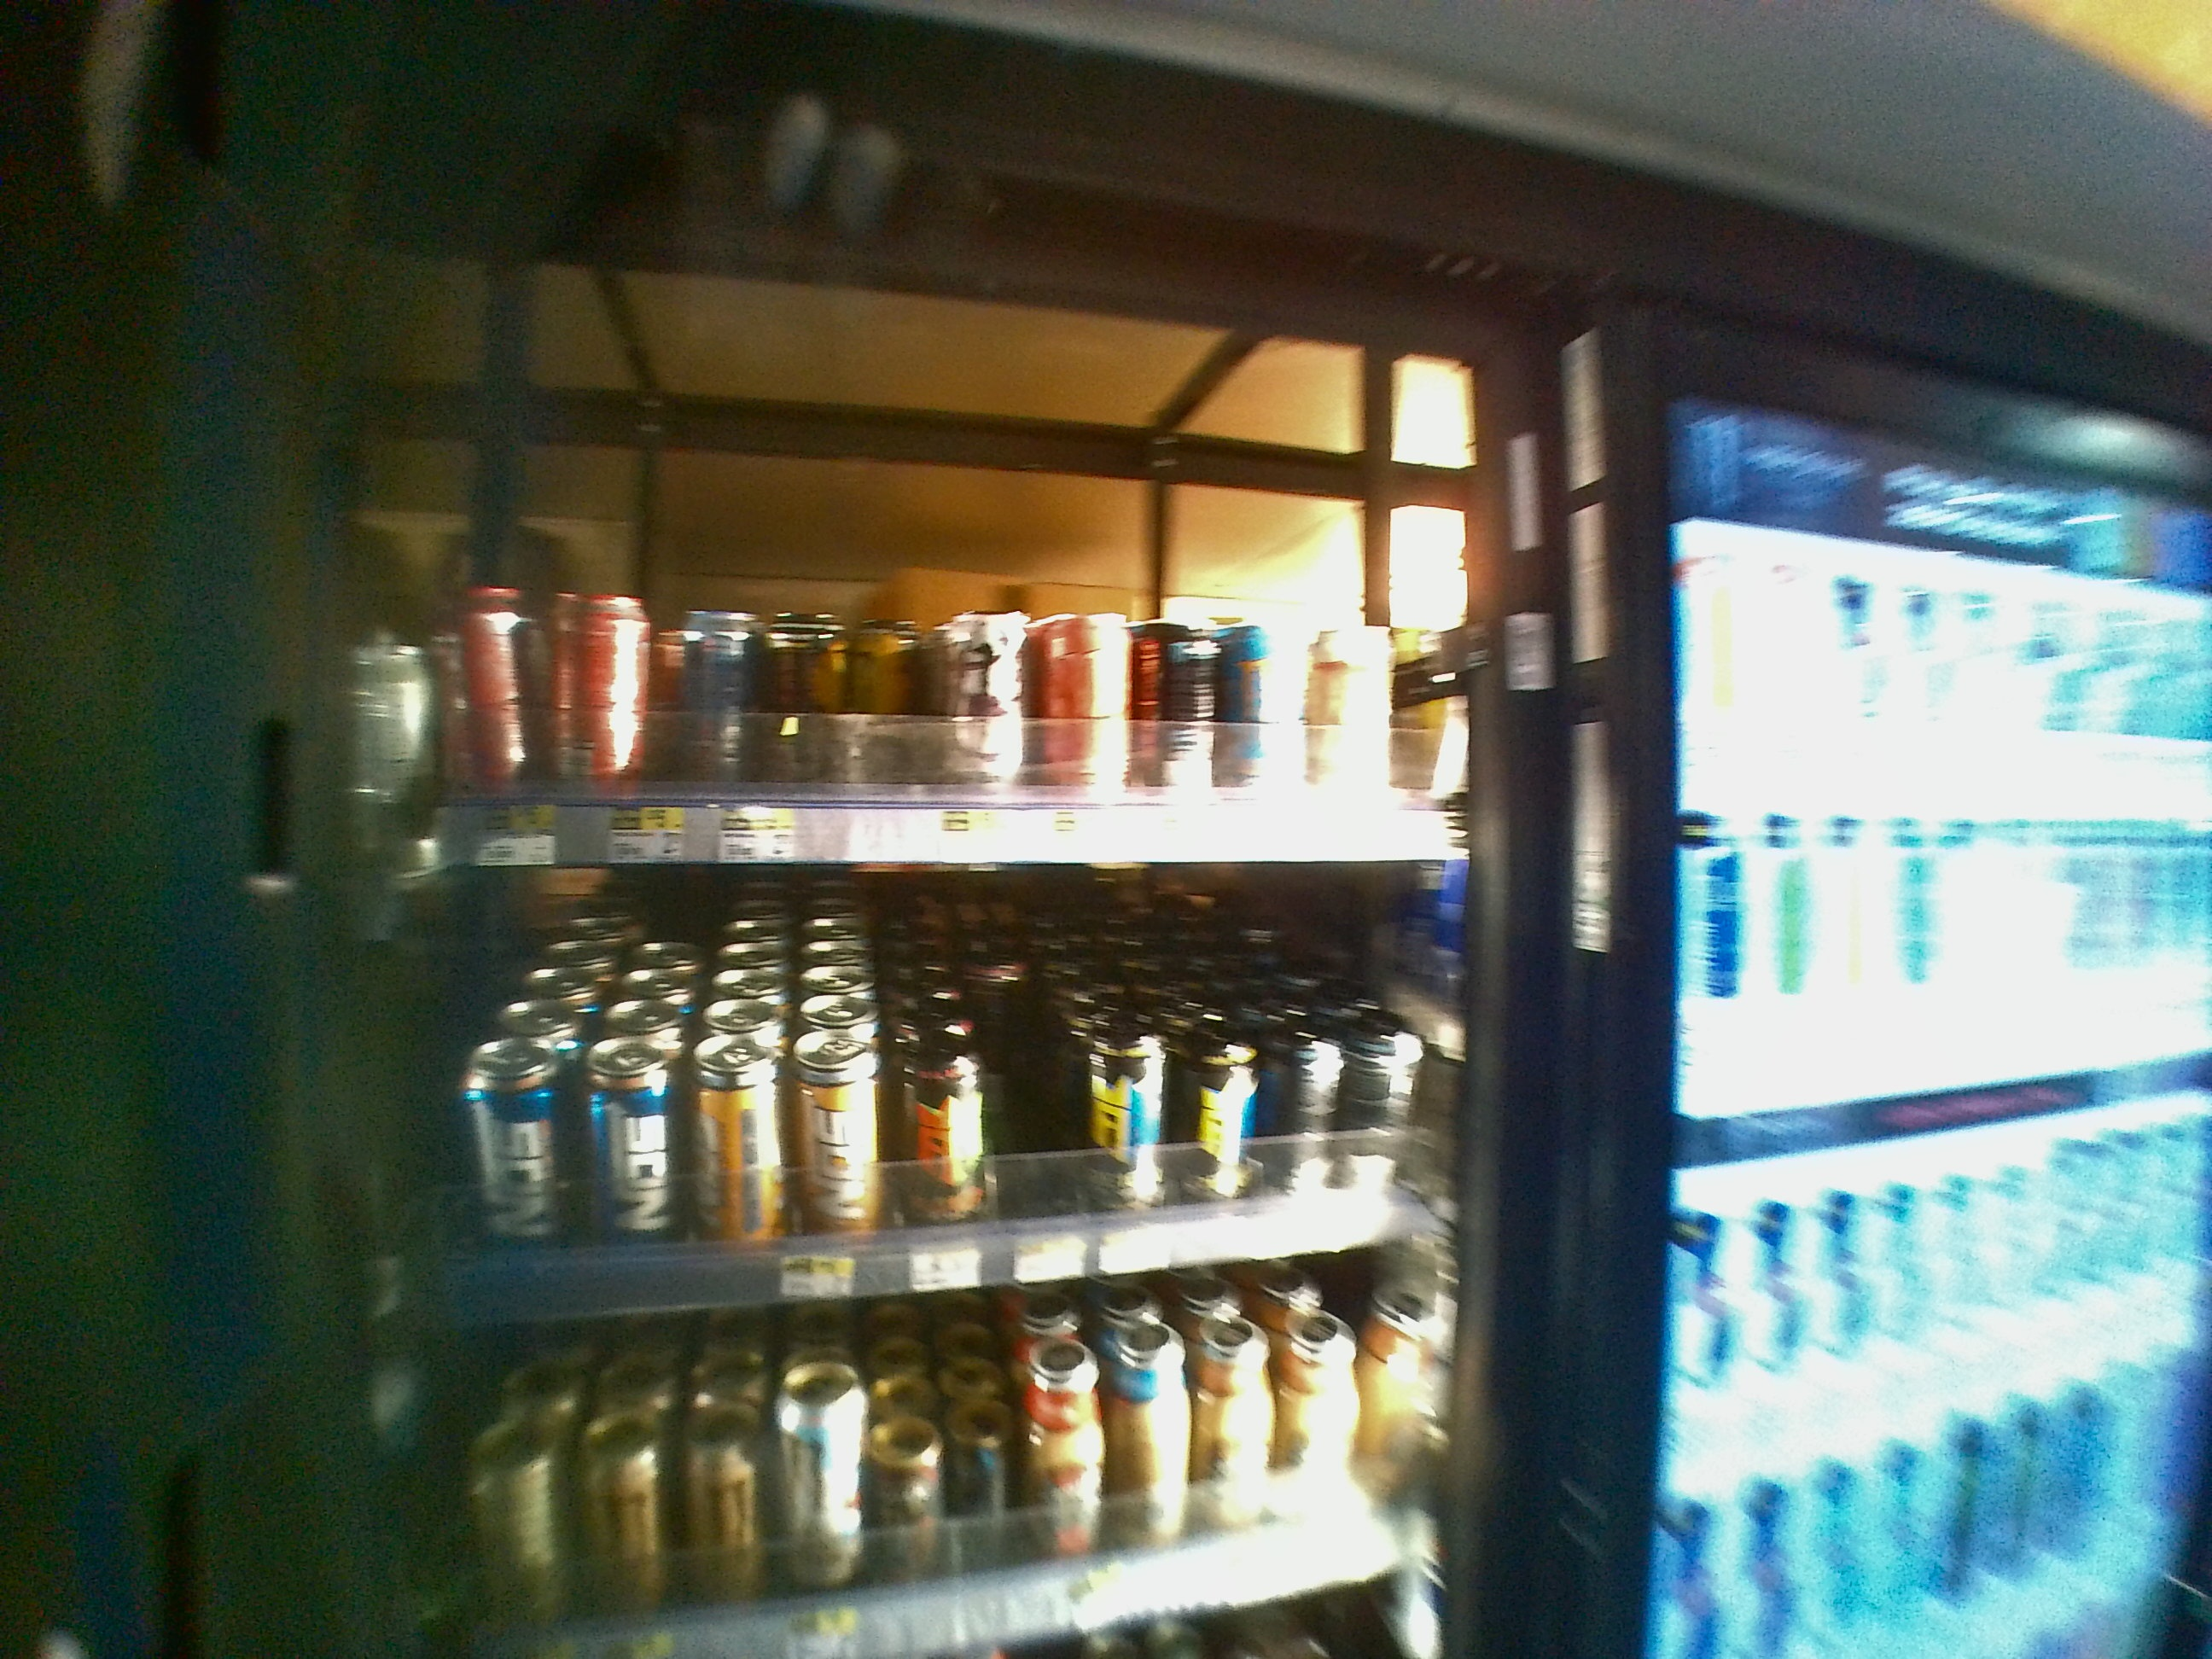shelf: (348, 249, 1484, 864), (340, 871, 1482, 1307)
